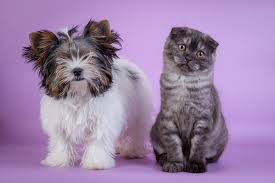cat: (161, 24, 221, 77)
dog: (21, 19, 125, 105)
